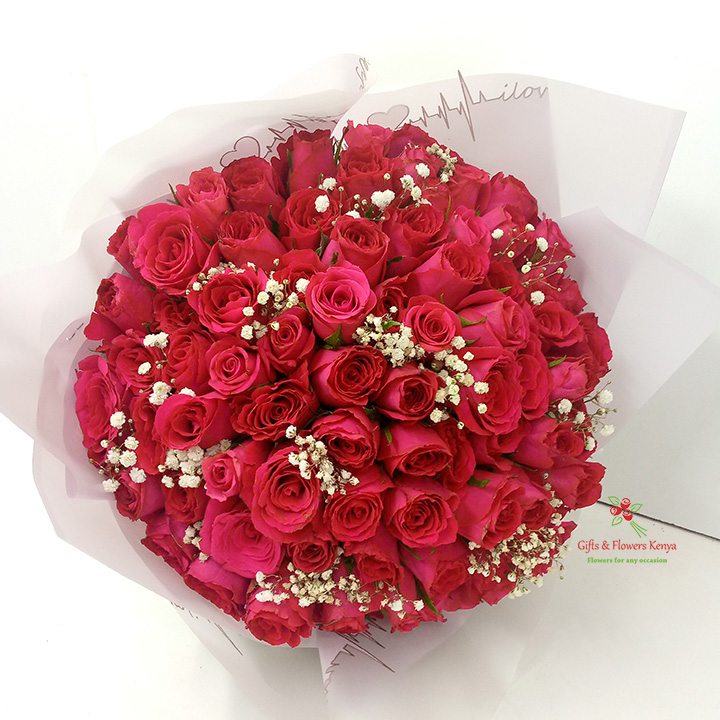Red: (256, 460, 311, 535), (140, 223, 200, 289), (215, 511, 278, 572), (234, 385, 315, 432), (309, 269, 373, 327), (397, 492, 457, 548), (320, 349, 382, 402), (218, 214, 286, 262), (466, 301, 531, 350), (333, 221, 396, 271), (390, 437, 455, 484), (325, 416, 384, 467), (469, 483, 518, 541), (330, 495, 384, 546), (286, 131, 336, 184), (157, 398, 218, 441), (402, 293, 458, 339), (435, 242, 485, 292), (186, 569, 240, 615), (77, 370, 110, 440), (173, 174, 231, 213), (206, 345, 256, 390), (97, 276, 136, 329), (389, 204, 443, 239), (205, 461, 244, 501)
White: (261, 272, 303, 309), (107, 450, 138, 474), (386, 331, 408, 361), (367, 188, 402, 202), (441, 355, 468, 372), (148, 334, 169, 348), (602, 390, 613, 405), (558, 402, 570, 414)
